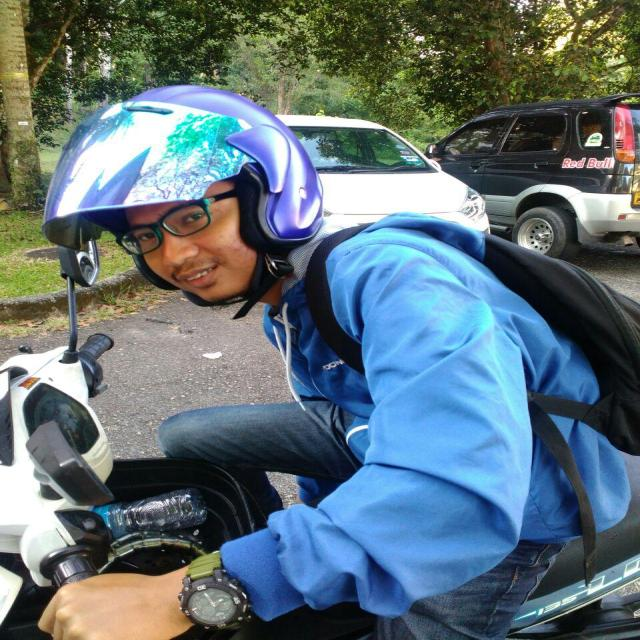helmet: (39, 78, 329, 313)
